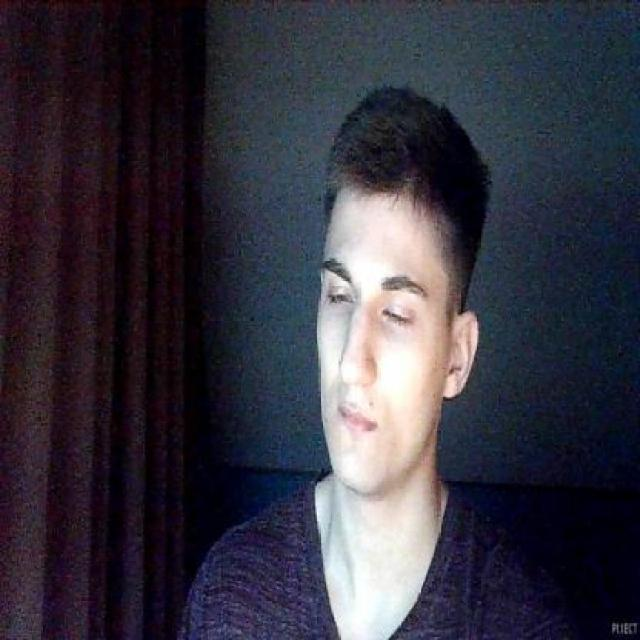drowsy: (382, 306, 413, 332), (326, 285, 354, 312)
